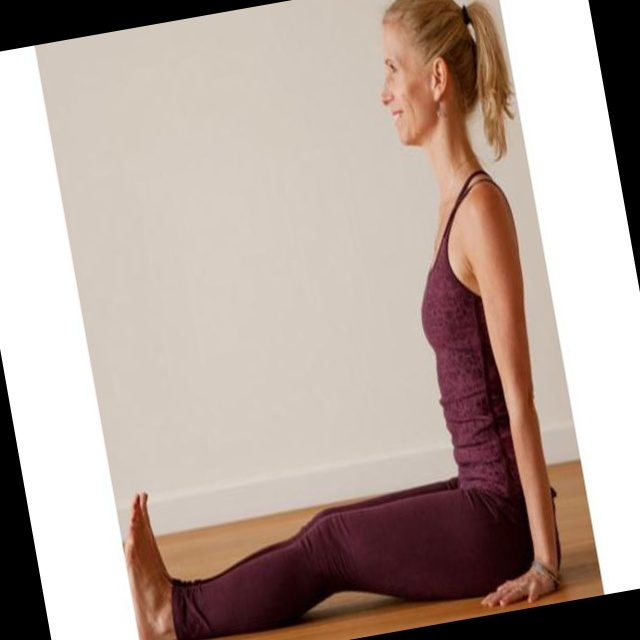Staff_Pose: (124, 2, 561, 635)
